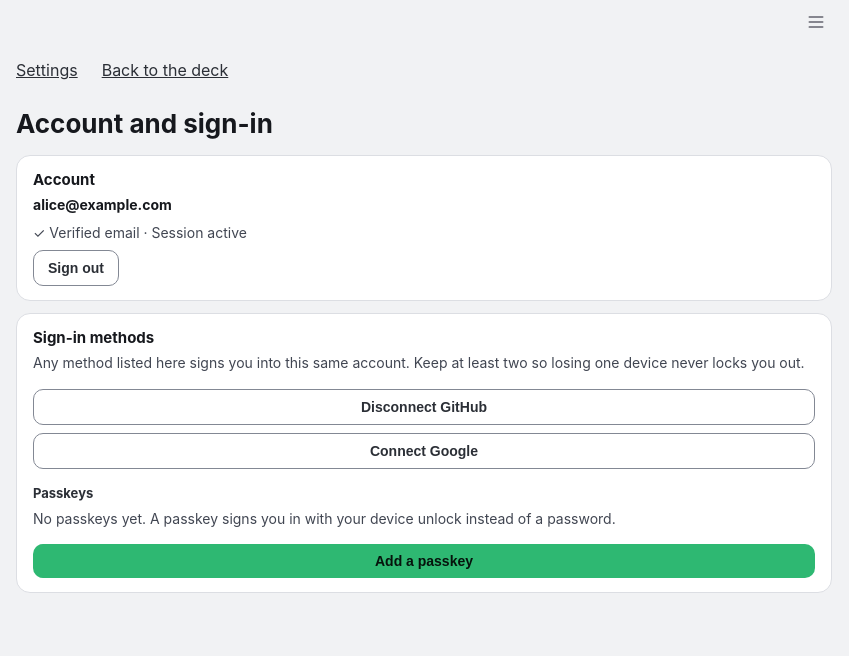
Scenario: Sign-in method management › shows why the last remaining sign-in method cannot be disconnected
Step 1. Click the button "Disconnect GitHub" → (424, 407), box [33, 389, 815, 425]
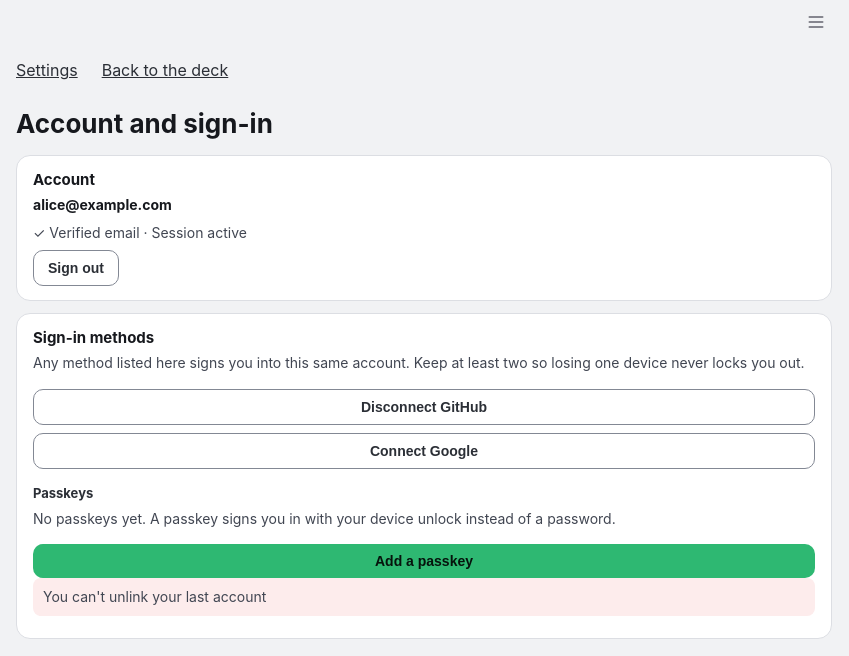
Expected: the message reads "You can't unlink your last account", [43, 588, 266, 605]
